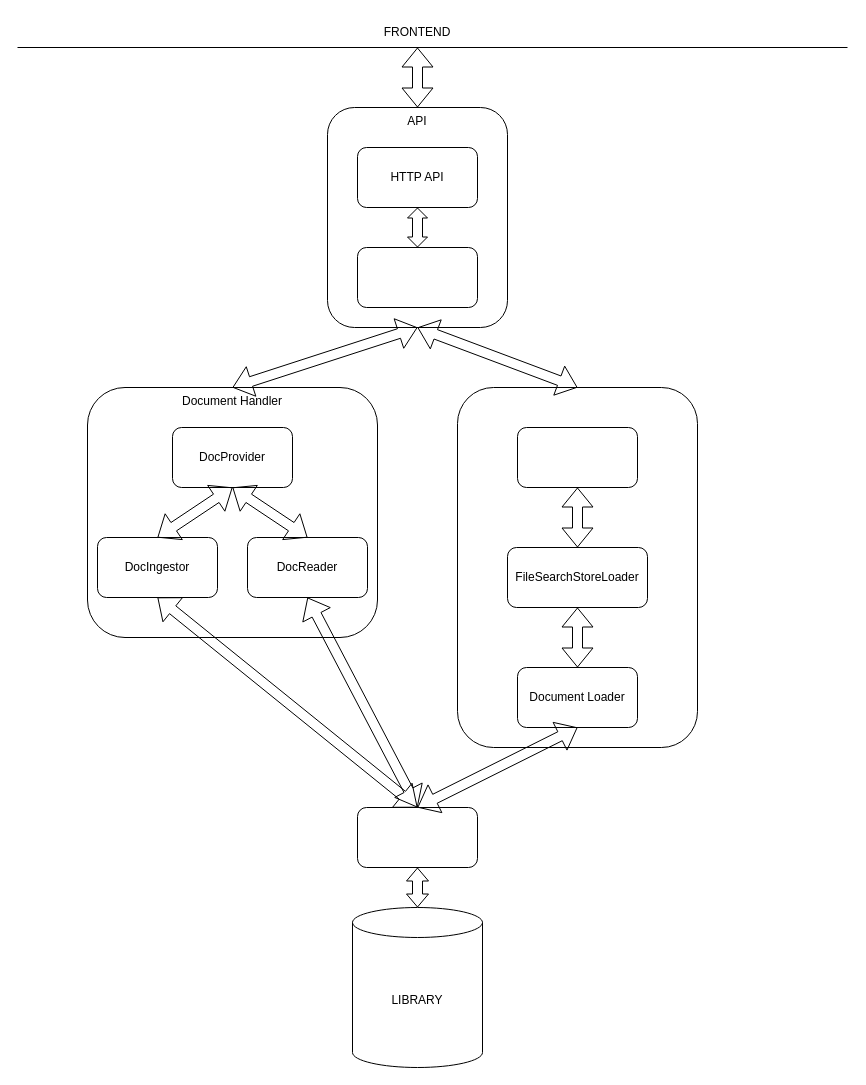
Image size: 866x1085. Some labels were removed from this diagram. The box of each missing label's shape, as (x1, y1, x2, y2) in pixels:
AI Modell: (456, 386, 698, 748)
AI Provider: (516, 426, 638, 488)
API Provider: (356, 246, 478, 308)
DocIO: (356, 806, 478, 868)
